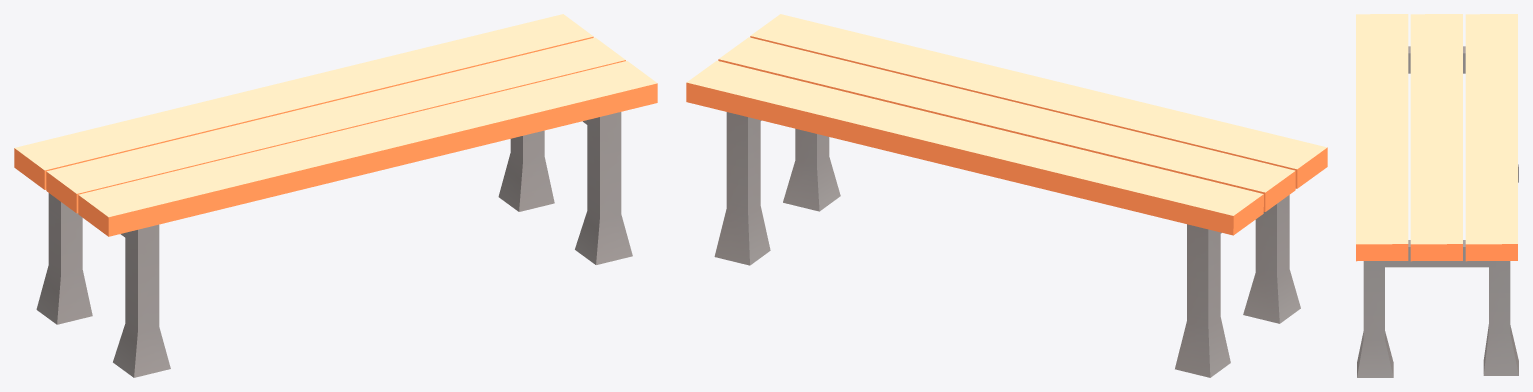
The model's file is city2-bench-02.glb.
The picture shows the model from 3 angles, left to right: view 1: azimuth 30°, elevation 25°; view 2: azimuth 150°, elevation 25°; view 3: azimuth 270°, elevation 25°; orthographic projection. The views are drawn at different scales.
Visible parts, largest first — view 1: Bench_02; view 2: Bench_02; view 3: Bench_02.
Boxes of the visible parts, x1,y1,x2,y2 form: Bench_02: (14, 14, 657, 377); Bench_02: (686, 14, 1327, 377); Bench_02: (1356, 14, 1518, 377).
Bounding box in the file's own units: 1.7 × 0.4962 × 0.5088.
1 material, 1 textured.
